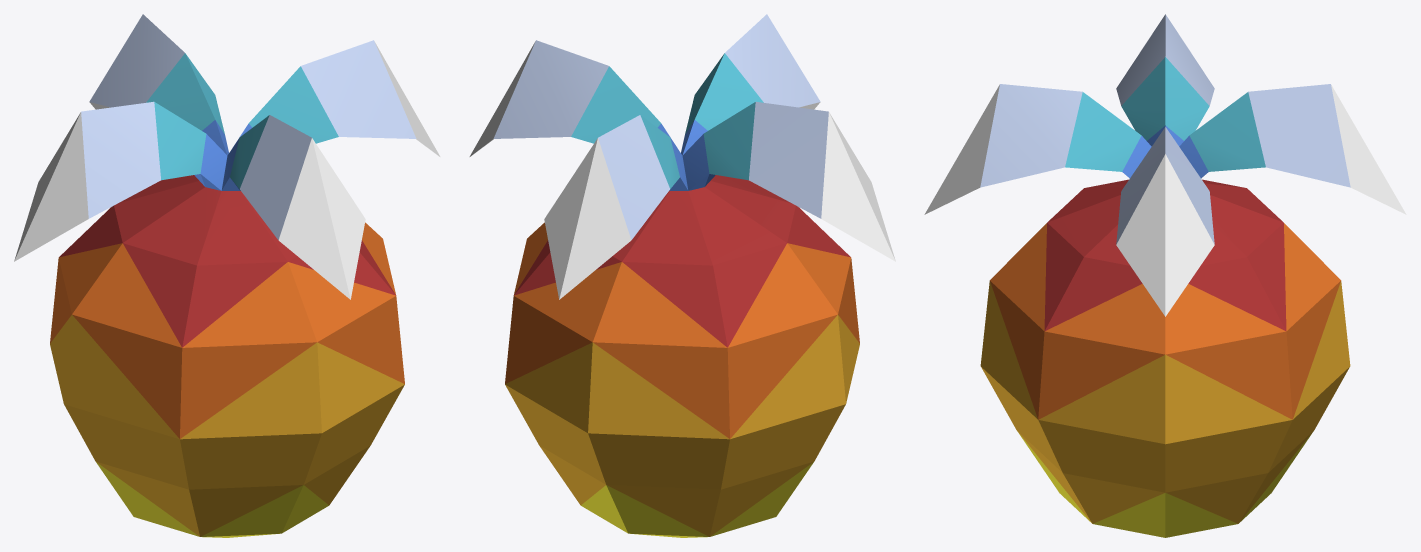
File: model_goldradish.fbx
3 renders of one model, left to right at view 1: azimuth 30°, elevation 25°; view 2: azimuth 150°, elevation 25°; view 3: azimuth 270°, elevation 25°, orthographic. The views are drawn at different scales.
Parts seen in each view (by area): view 1: mesh_goldradish; view 2: mesh_goldradish; view 3: mesh_goldradish.
Boxes of the visible parts, box(x1,y1,x2,y2) form: mesh_goldradish: box(14, 14, 440, 537); mesh_goldradish: box(469, 14, 895, 537); mesh_goldradish: box(924, 14, 1406, 537).
Bounding box in the file's own units: 1.56 × 1.61 × 1.56.
1 material, 1 textured.
